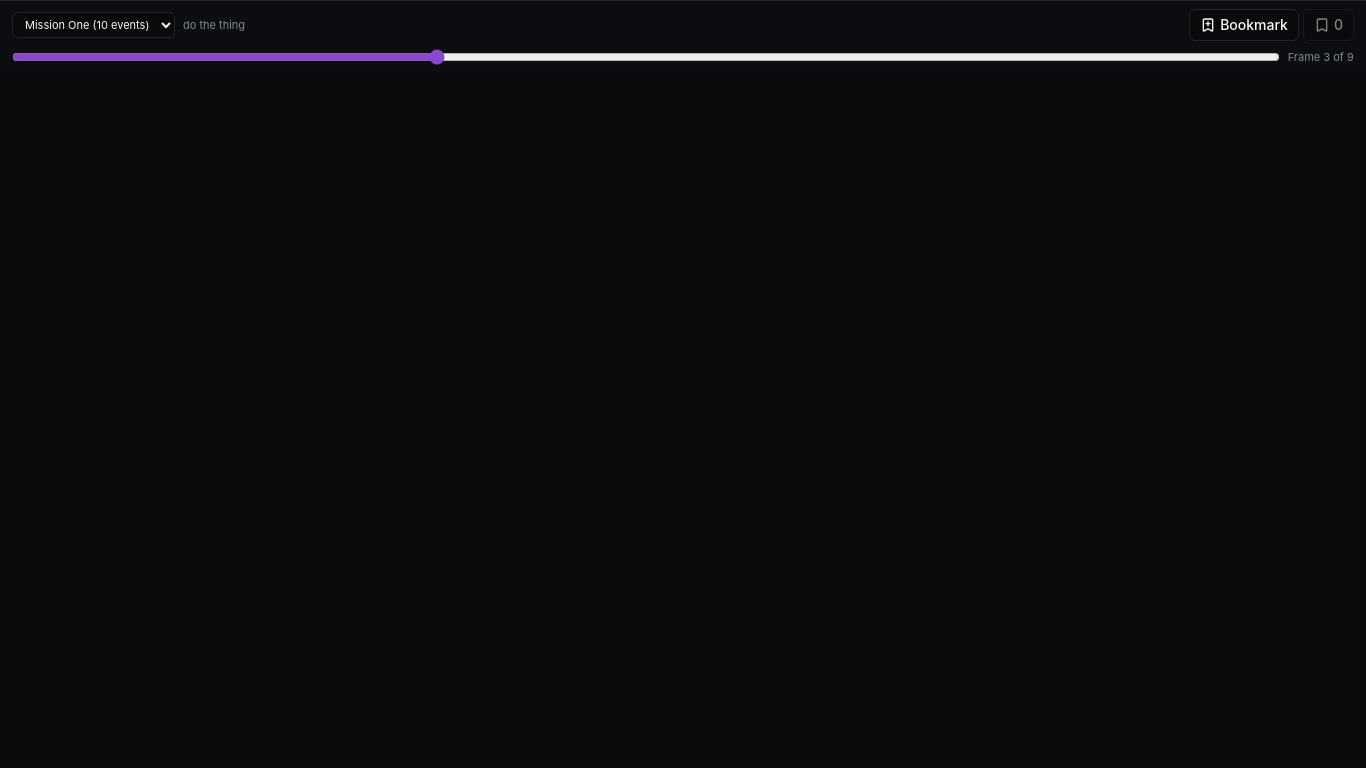
Test: ReplayScrubber — UX-3 bookmark prompt › does not save when the prompt is cancelled
Click the button "Bookmark" at coordinates (1244, 25), box [1189,9,1299,41]
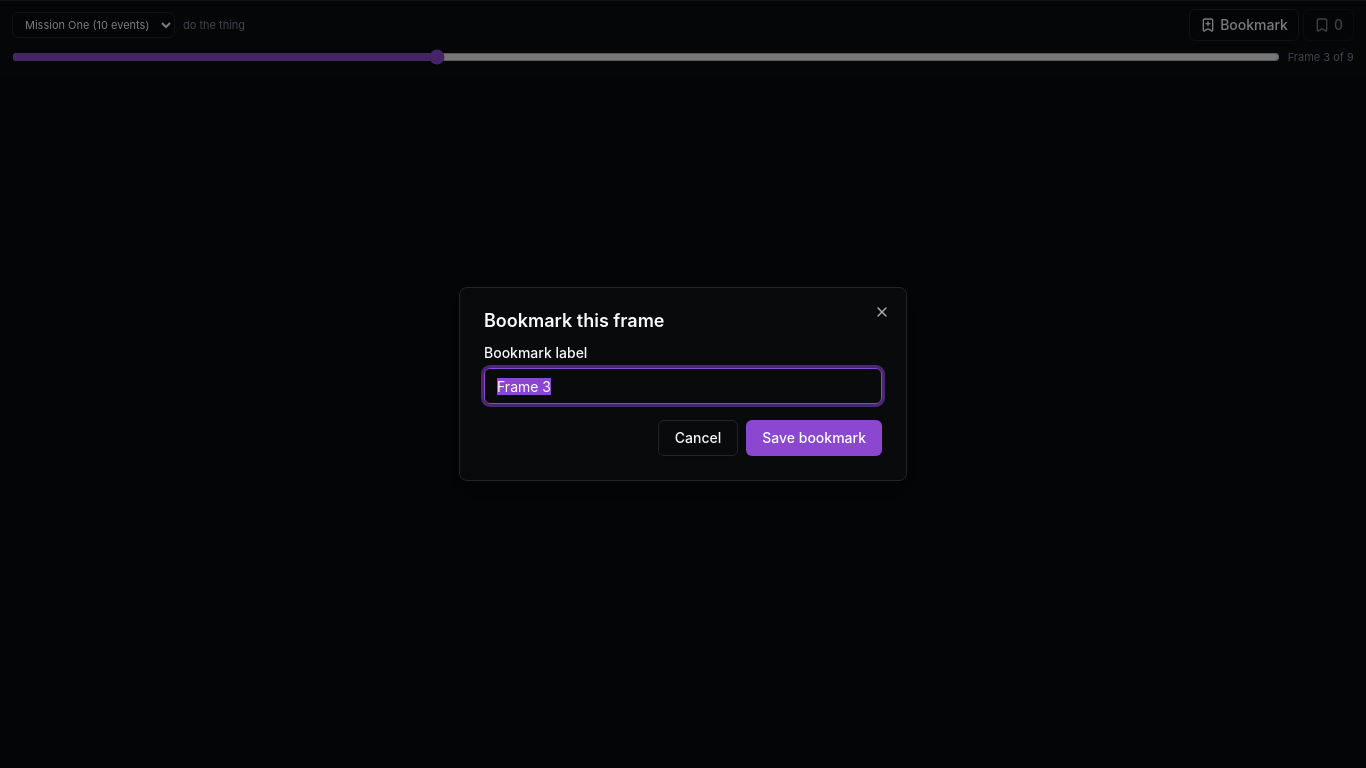
Click the button "Cancel" at coordinates (698, 438), box [658,420,738,456]
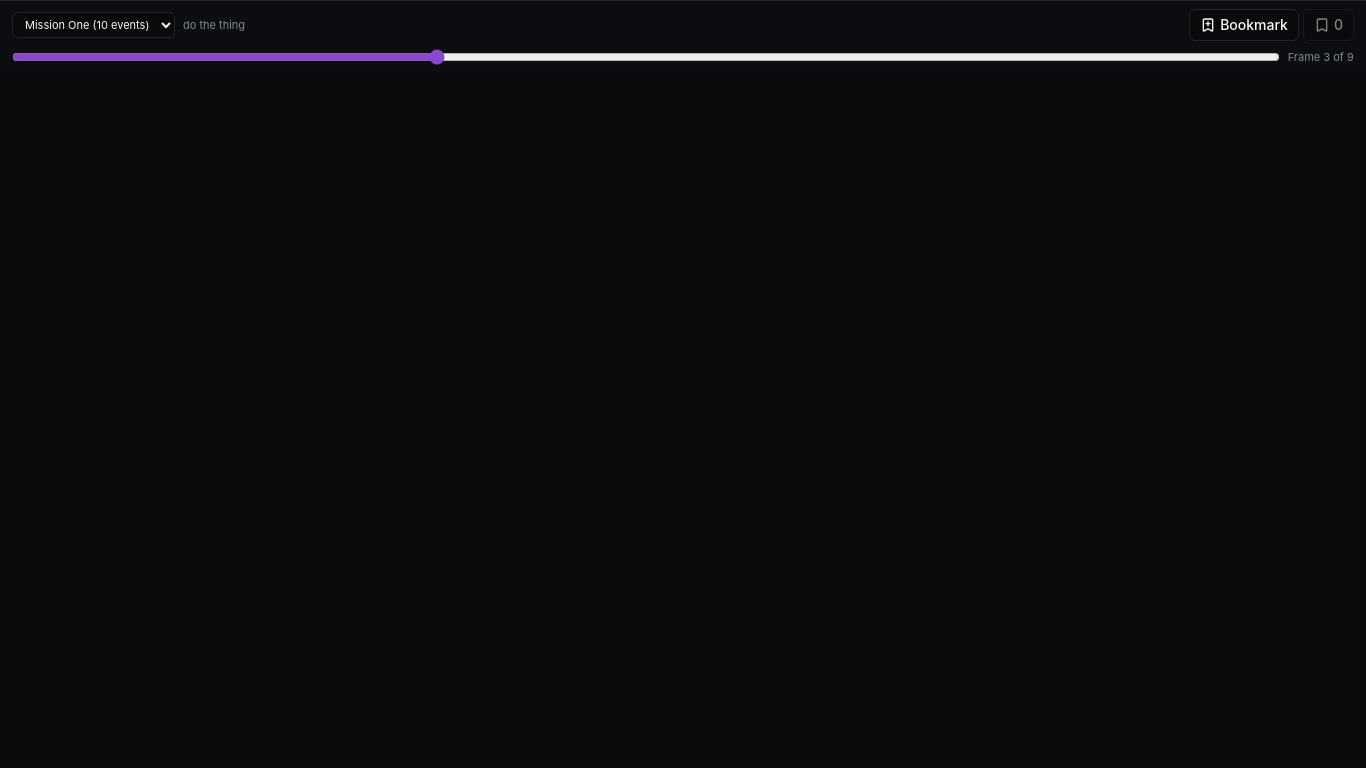
Result: the dialog is gone
